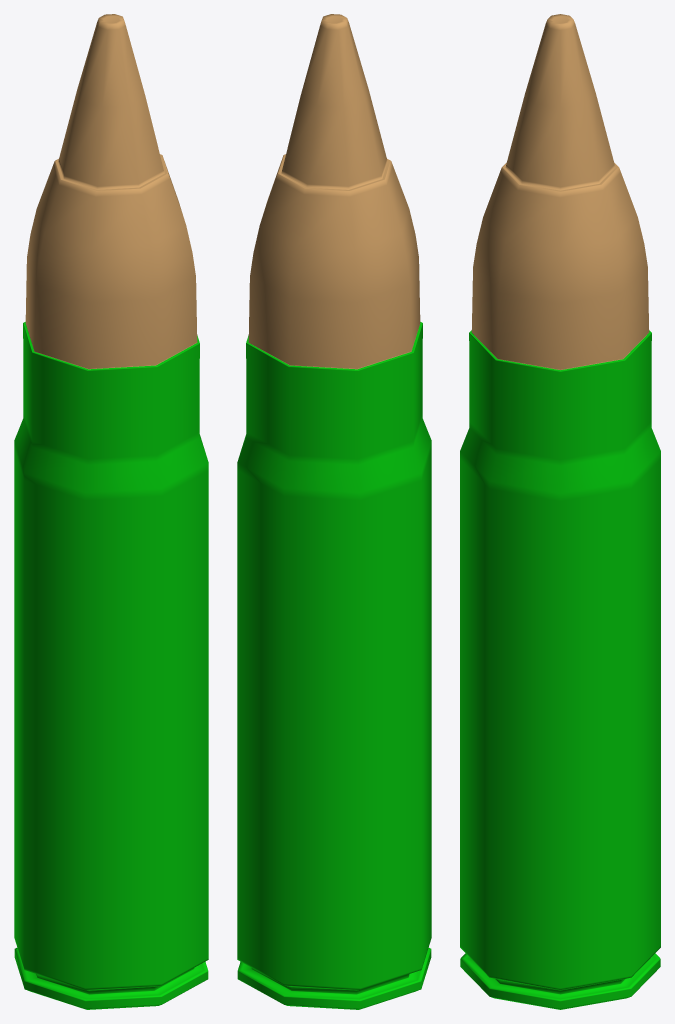
3 views of the same model, side by side, from view 1: azimuth 30°, elevation 25°; view 2: azimuth 150°, elevation 25°; view 3: azimuth 270°, elevation 25° (orthographic).
Parts seen in each view (by area): view 1: BP.003; view 2: BP.003; view 3: BP.003.
Part boxes in pixels (x1,y1,x2,y2): BP.003: [14, 14, 208, 1009]; BP.003: [237, 14, 431, 1009]; BP.003: [460, 14, 660, 1009].
Bounding box in the file's own units: 1.08 × 5.62 × 1.08.
